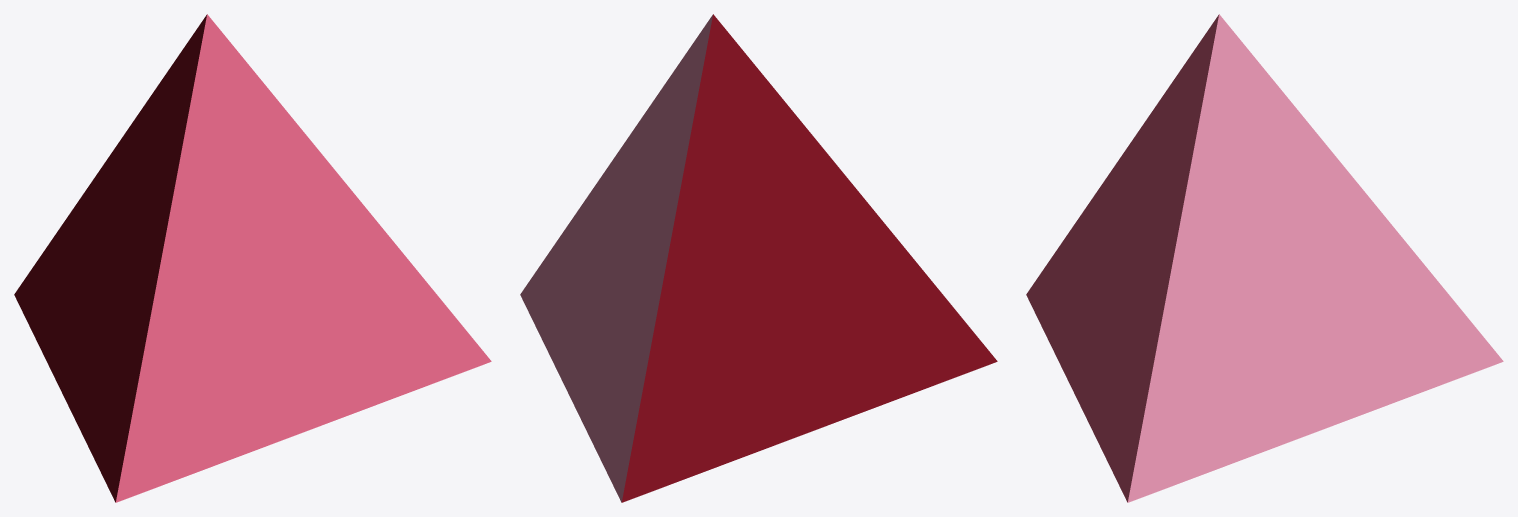
The model's file is tetrahedron-vertices.fbx.
The picture shows the model from 3 angles, left to right: view 1: azimuth 30°, elevation 25°; view 2: azimuth 150°, elevation 25°; view 3: azimuth 270°, elevation 25°; orthographic projection.
Visible parts, largest first — view 1: Cone; view 2: Cone; view 3: Cone.
Part boxes in pixels (left/top/right/bottom): Cone: left=14, top=14, right=491, bottom=502; Cone: left=520, top=14, right=997, bottom=502; Cone: left=1026, top=14, right=1503, bottom=502.
Bounding box in the file's own units: 170 × 141 × 164.
